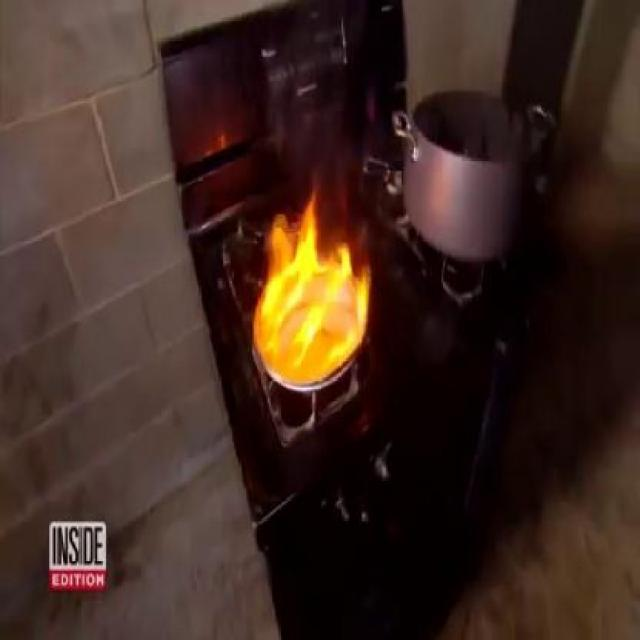fire: (248, 185, 377, 388)
